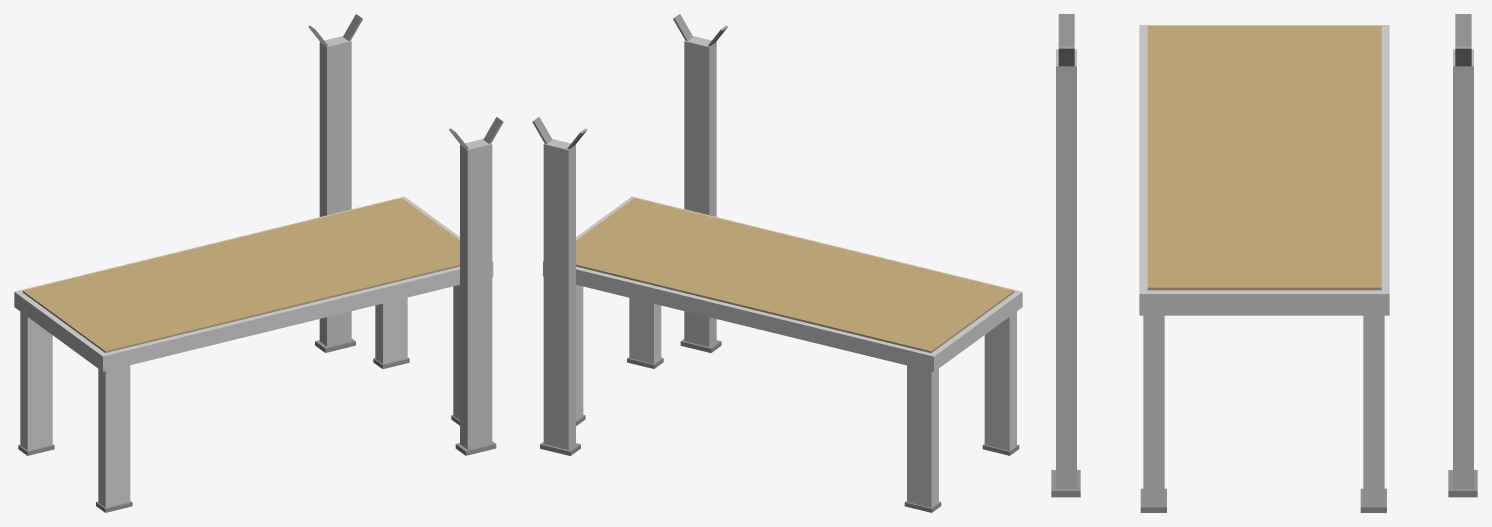
The model's file is horizontal bar2.fbx.
3 renders of one model, left to right at view 1: azimuth 30°, elevation 25°; view 2: azimuth 150°, elevation 25°; view 3: azimuth 270°, elevation 25°, orthographic. The views are drawn at different scales.
Visible parts, largest first — view 1: Cube; view 2: Cube; view 3: Cube.
Part boxes in pixels (bbox=[...]): Cube: bbox=[14, 14, 503, 512]; Cube: bbox=[532, 14, 1022, 512]; Cube: bbox=[1051, 14, 1477, 512].
Bounding box in the file's own units: 166 × 132 × 111.
